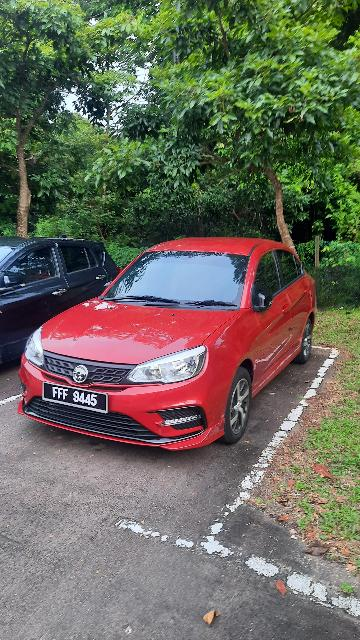License_Plate: (45, 383, 112, 416)
car: (15, 236, 317, 452), (1, 228, 121, 374)
